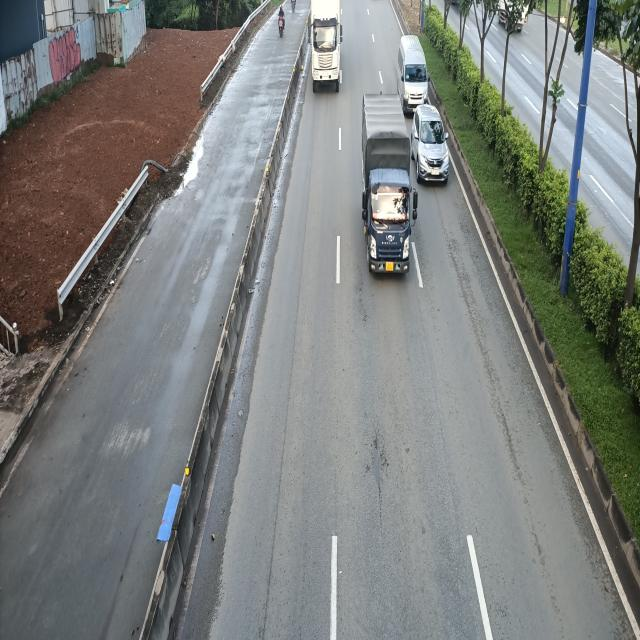car: (411, 104, 449, 185)
container: (309, 0, 345, 92)
truck: (359, 96, 417, 277)
van: (399, 36, 429, 115)
